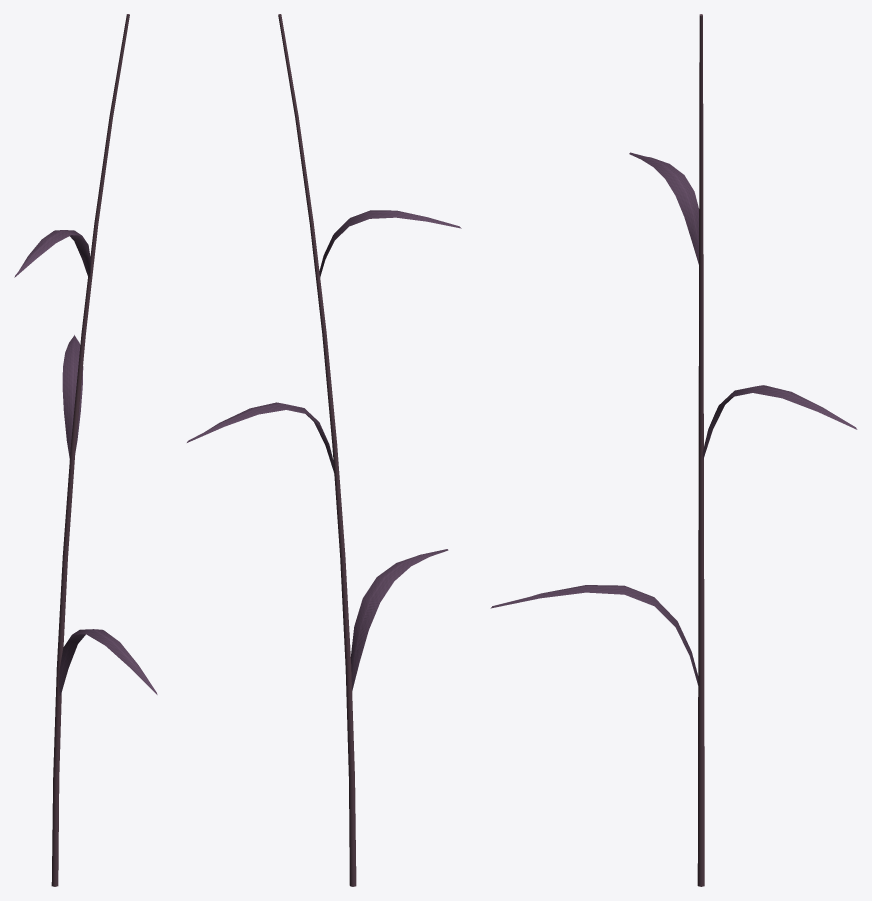
The model's file is single_stem_04.glb.
3 renders of one model, left to right at view 1: azimuth 30°, elevation 25°; view 2: azimuth 150°, elevation 25°; view 3: azimuth 270°, elevation 25°, orthographic. The views are drawn at different scales.
Visible parts, largest first — view 1: export; view 2: export; view 3: export.
Part boxes in pixels (x1,y1,x2,y2): export: (14, 14, 157, 886); export: (187, 14, 461, 886); export: (490, 14, 857, 886).
Size of the model in its own units: 0.2061 by 1 by 0.3664.
Materials: 2 (2 with a texture image).
